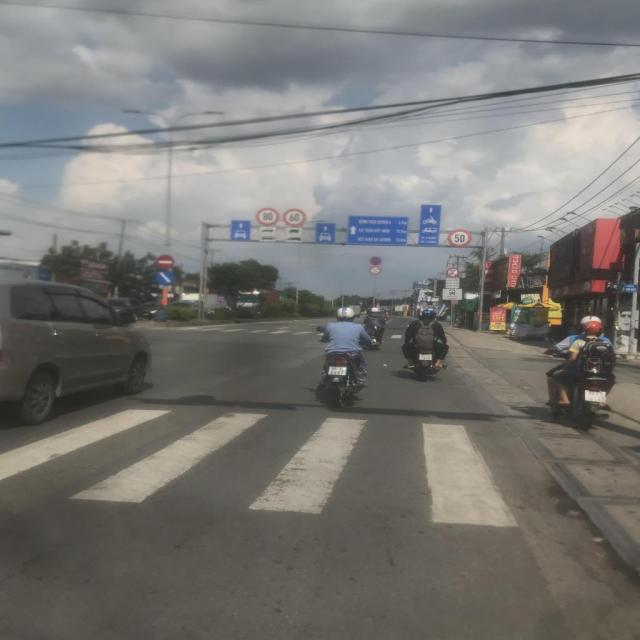cam_dung_xe_va_do_xe: (370, 257, 382, 265)
cam_o_to_tai_va_xe_khach: (446, 268, 460, 277)
cam_xe_2_banh_va_xe_3_banh_co_dong_co: (370, 266, 382, 274)
cam_xe_di_nguoc_chieu: (156, 254, 175, 269)
duong_cho_xe_o_to: (231, 220, 251, 241), (316, 224, 336, 243)
huong_phai_di_vuot_chuong_ngai_vat_phai: (155, 270, 174, 285)
khac: (347, 216, 409, 246), (418, 205, 441, 246), (442, 288, 462, 300), (260, 234, 277, 242), (286, 235, 303, 243), (286, 227, 302, 235), (258, 227, 276, 234), (445, 279, 459, 288)
toc_do_toi_da_50: (447, 228, 471, 246)
toc_do_toi_da_60: (284, 209, 306, 227)
toc_do_toi_da_80: (256, 208, 279, 225)
